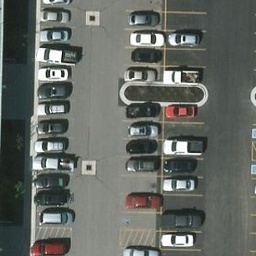car: (34, 47, 79, 64), (32, 154, 74, 172), (163, 139, 202, 155), (34, 171, 68, 189), (34, 188, 68, 206), (39, 208, 73, 226), (32, 237, 66, 255), (125, 194, 162, 210), (163, 210, 200, 226), (159, 230, 196, 246), (35, 83, 71, 99), (34, 101, 70, 117), (35, 119, 71, 135), (32, 137, 68, 153), (125, 138, 157, 155), (125, 154, 157, 171), (163, 156, 195, 173), (164, 176, 196, 193), (38, 24, 71, 40), (38, 9, 71, 24), (36, 65, 69, 80), (129, 10, 162, 25), (130, 31, 163, 46), (167, 31, 200, 46), (128, 49, 161, 64), (123, 68, 156, 83), (165, 68, 198, 83), (122, 104, 155, 119), (165, 104, 198, 119), (125, 123, 158, 138), (122, 244, 163, 256)
